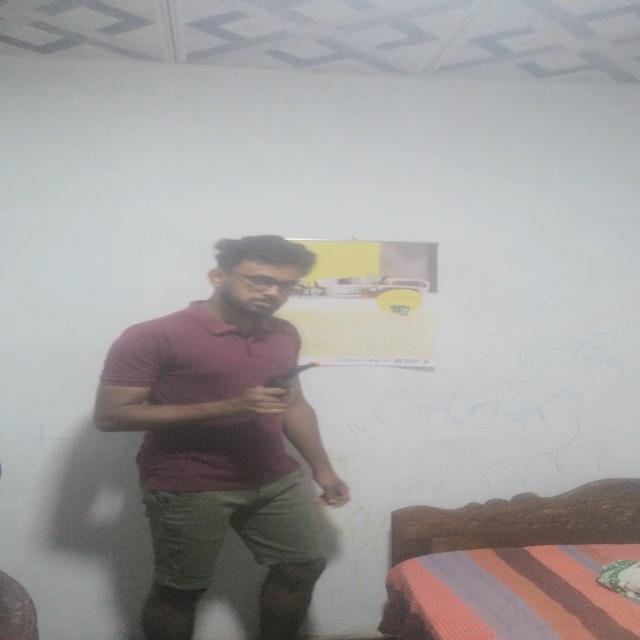Gun_Holder: (238, 352, 336, 416)
Person: (93, 231, 360, 640)
